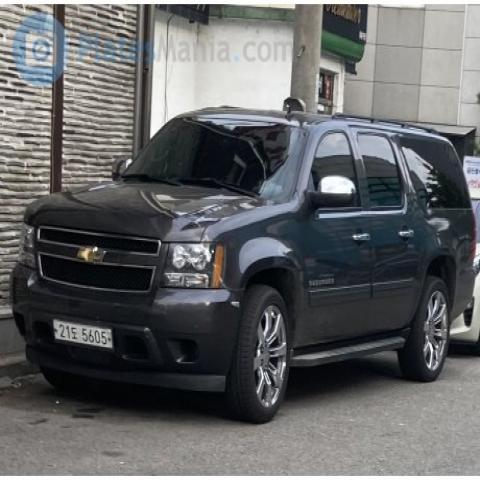LP: (48, 311, 120, 353)
